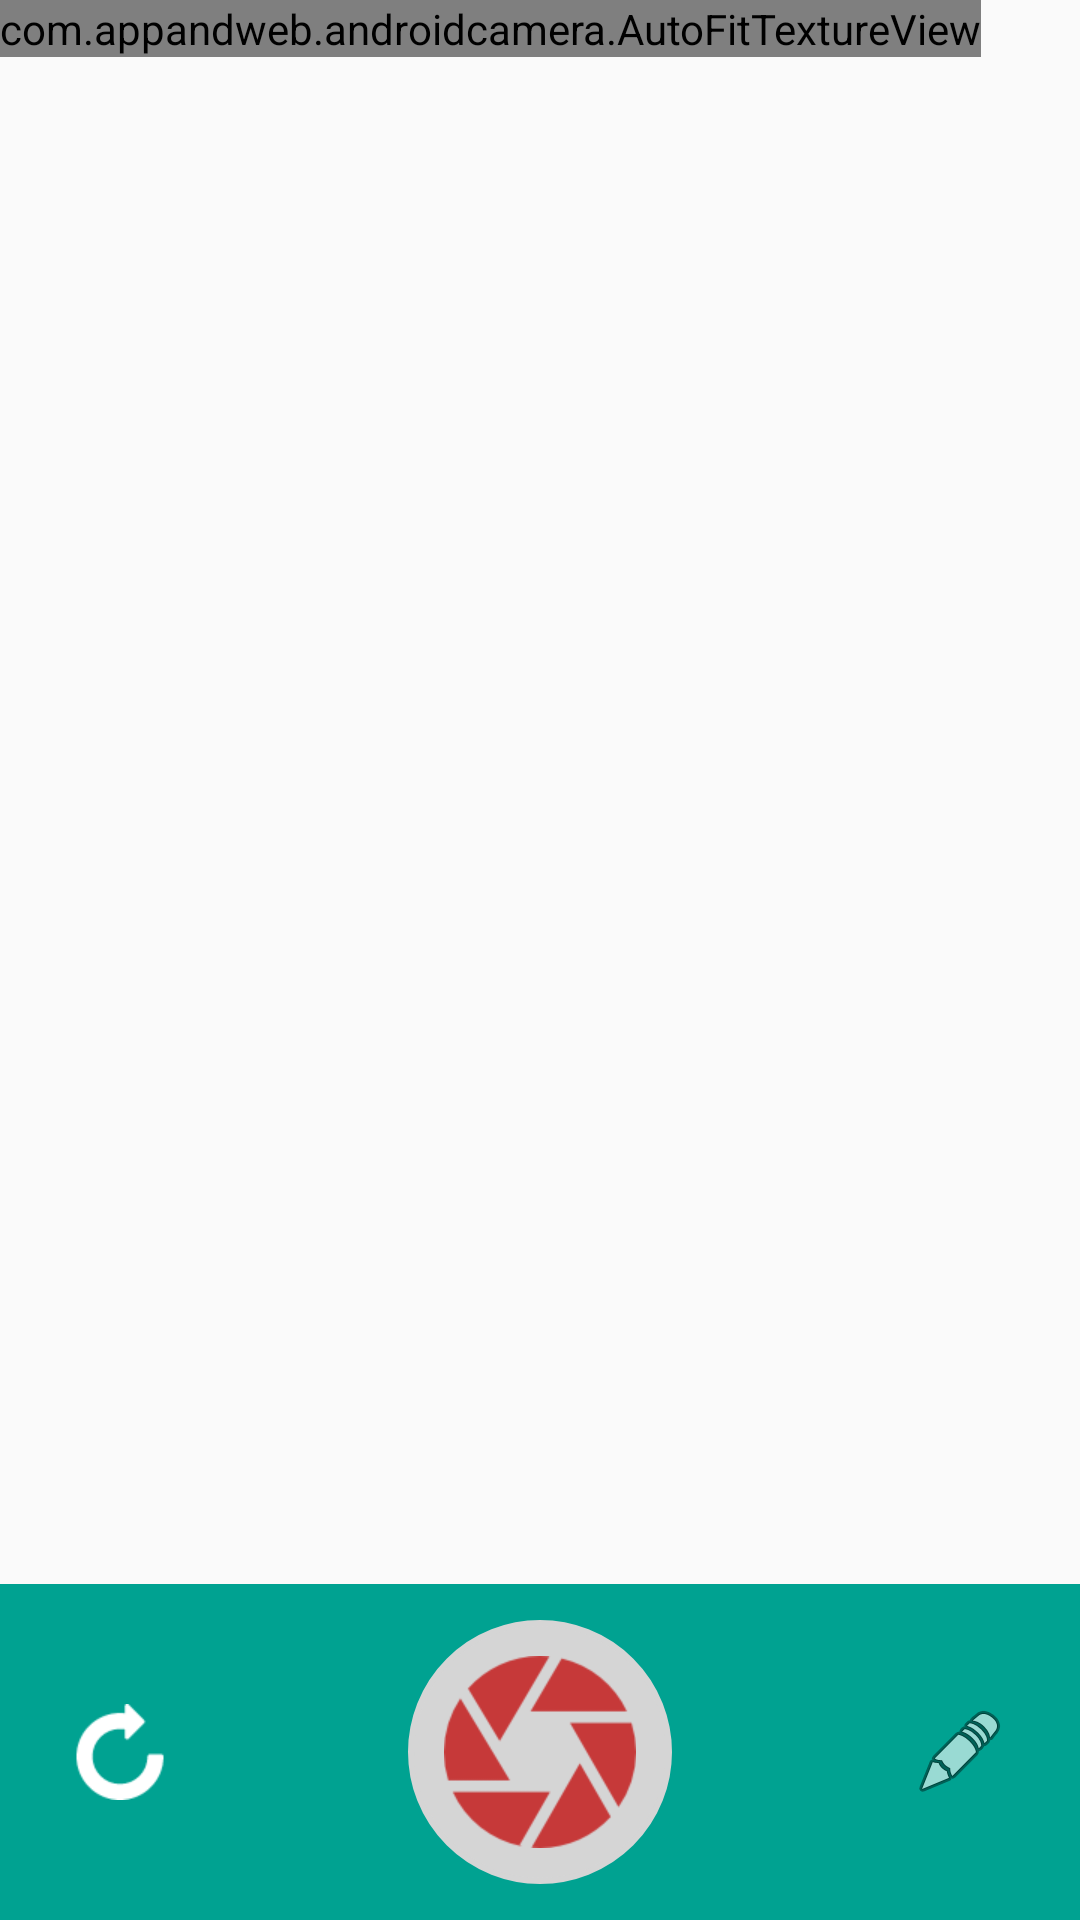

Locate icon controls on the screen. Image size 1080x1920, boxes as bbox=(x1, y1, x2, y2).
camera shutter: bbox=(408, 1620, 672, 1884)
edit: bbox=(919, 1711, 1000, 1792)
rotate camera: bbox=(76, 1704, 164, 1800)
